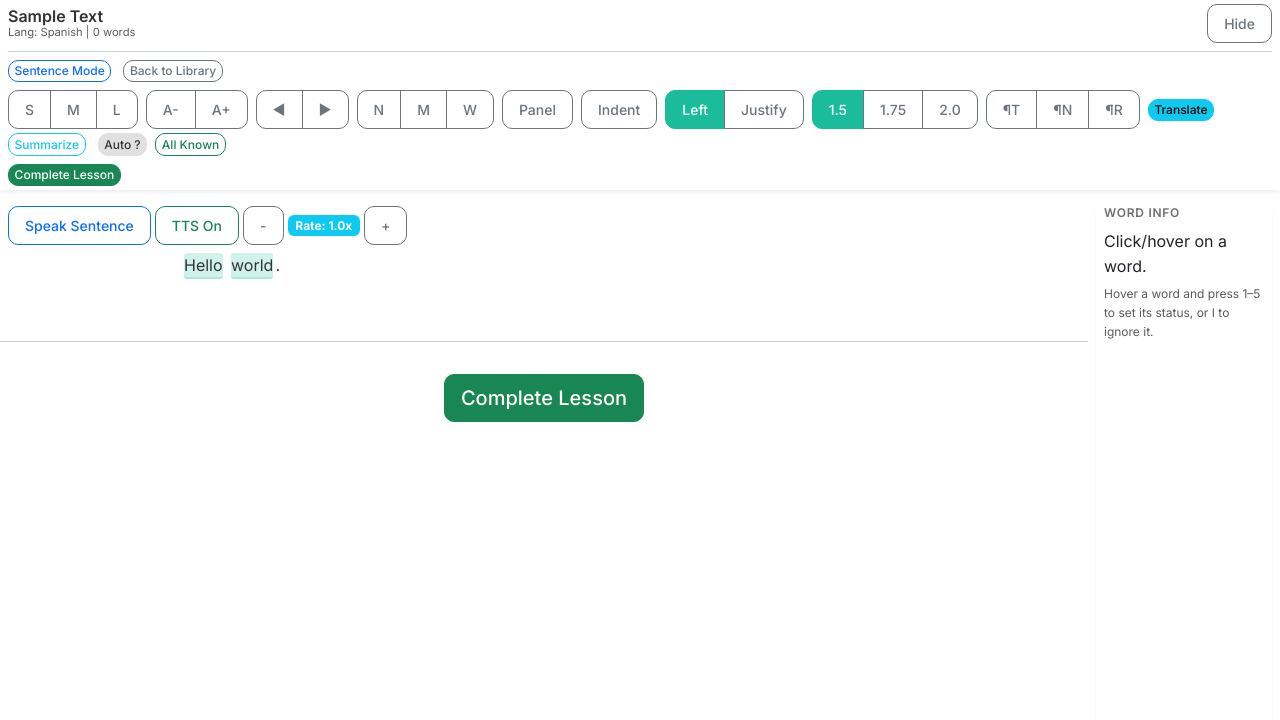
Test: TextDisplay › summarizes the current text in the selected language
Expected: the heading "Sample Text" is shown, 8,6 -> 103,26
Click the button "Summarize": coordinates (47, 145) 8,133 -> 86,156
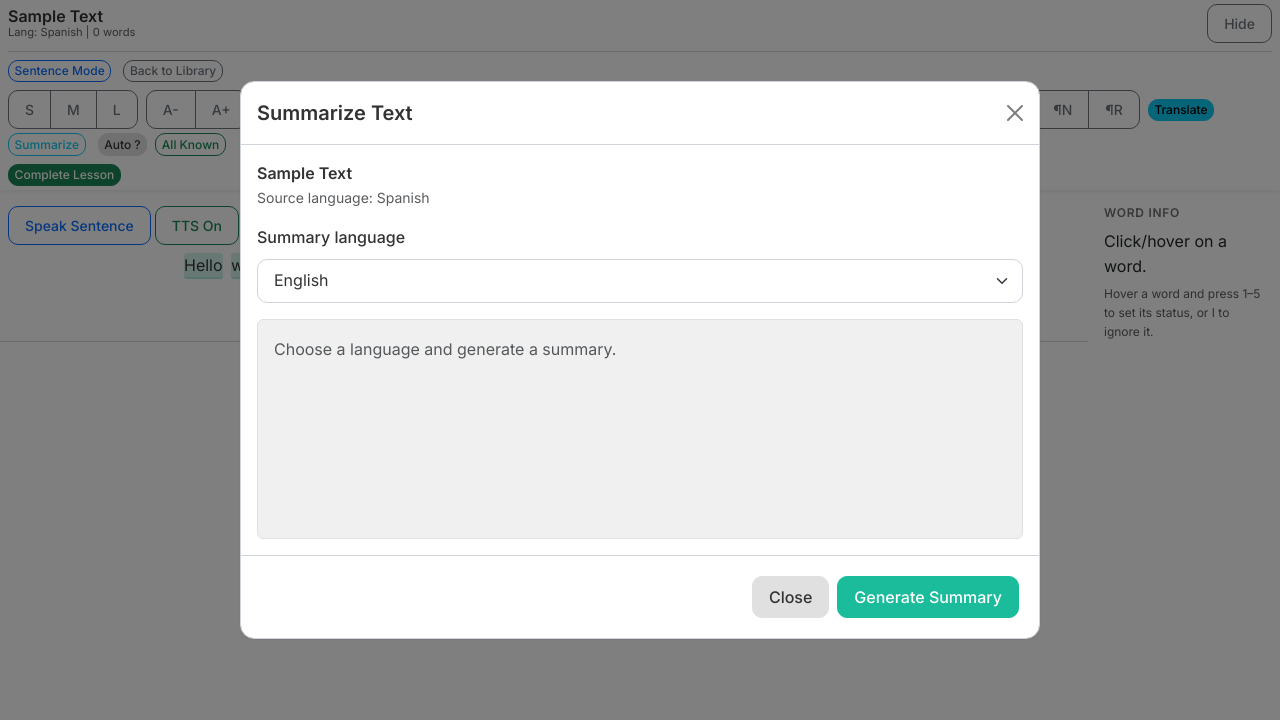
Now the heading "Summarize Text" is shown, box 257,98 -> 413,128
Select "German" in the dropdown labelled "Summary language": coordinates (640, 281) 257,259 -> 1023,303
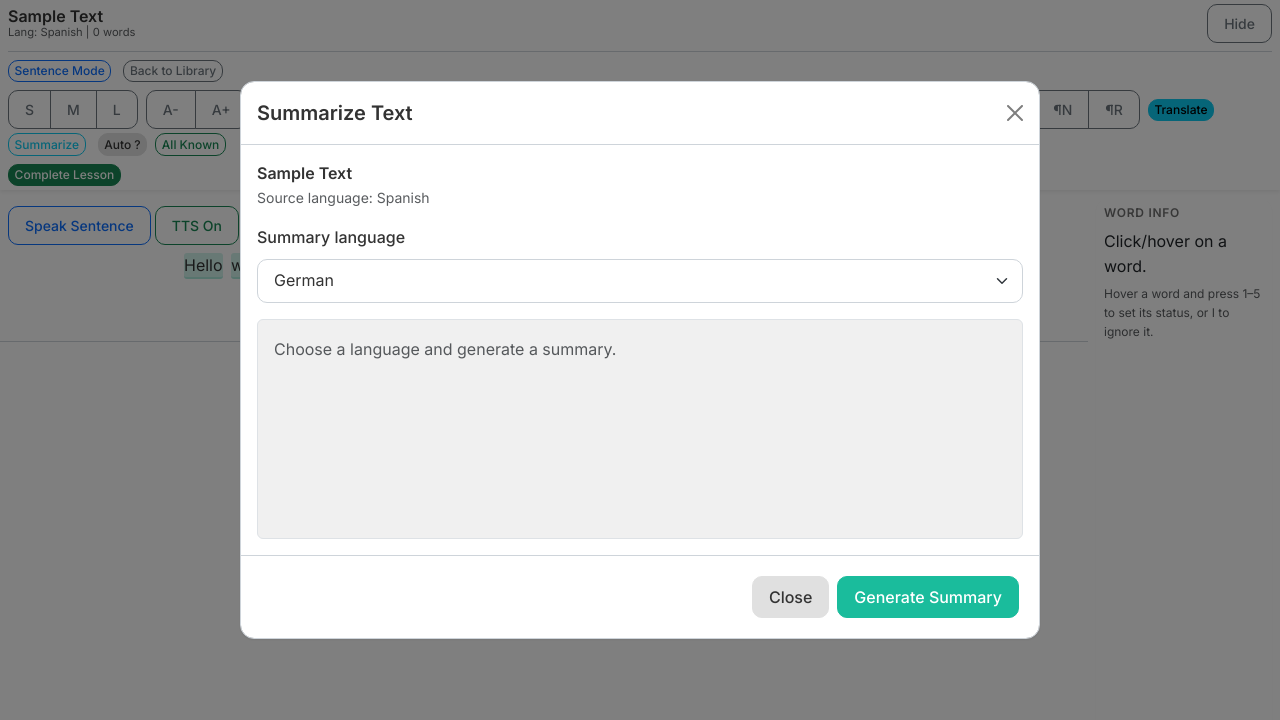
Click the button "Generate Summary": coordinates (928, 597) 837,576 -> 1019,618
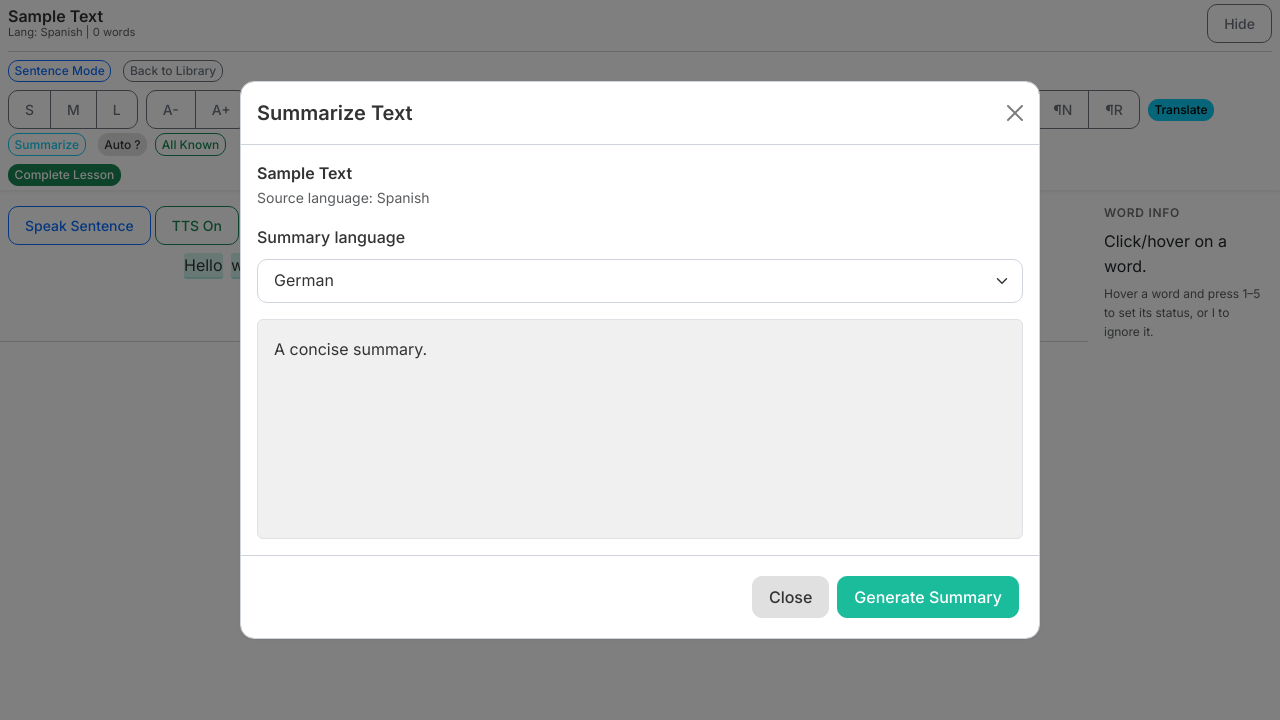
Now the text "A concise summary." is shown, box 257,319 -> 1023,539
